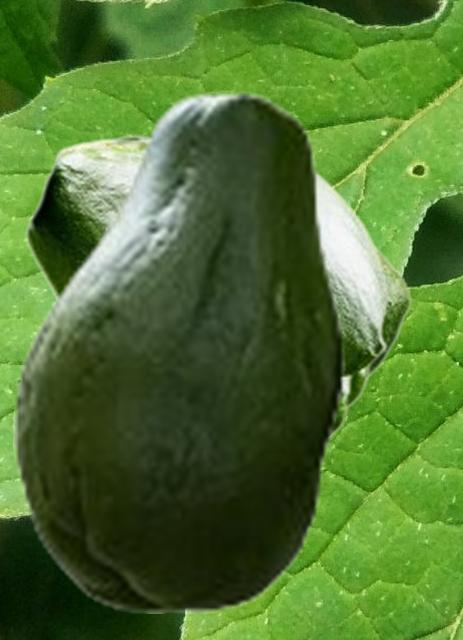sayote: (13, 90, 344, 612), (25, 134, 388, 440), (369, 241, 411, 382)
